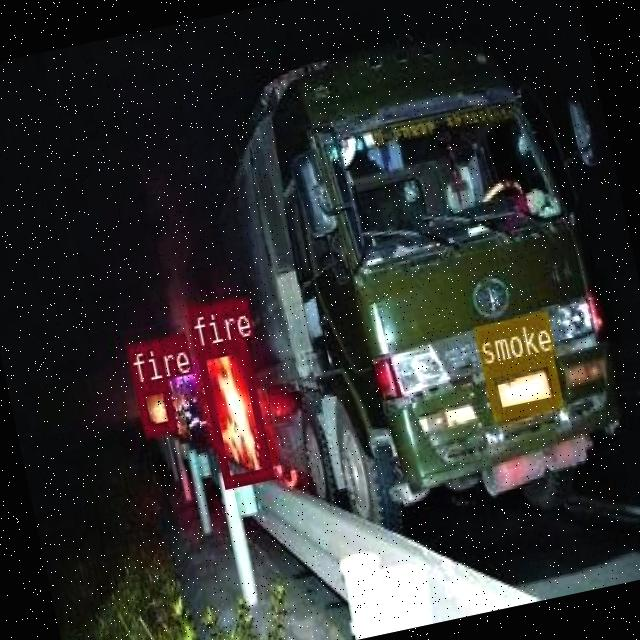fire: (194, 337, 272, 485), (134, 378, 176, 436)
smoke: (482, 352, 560, 418)
